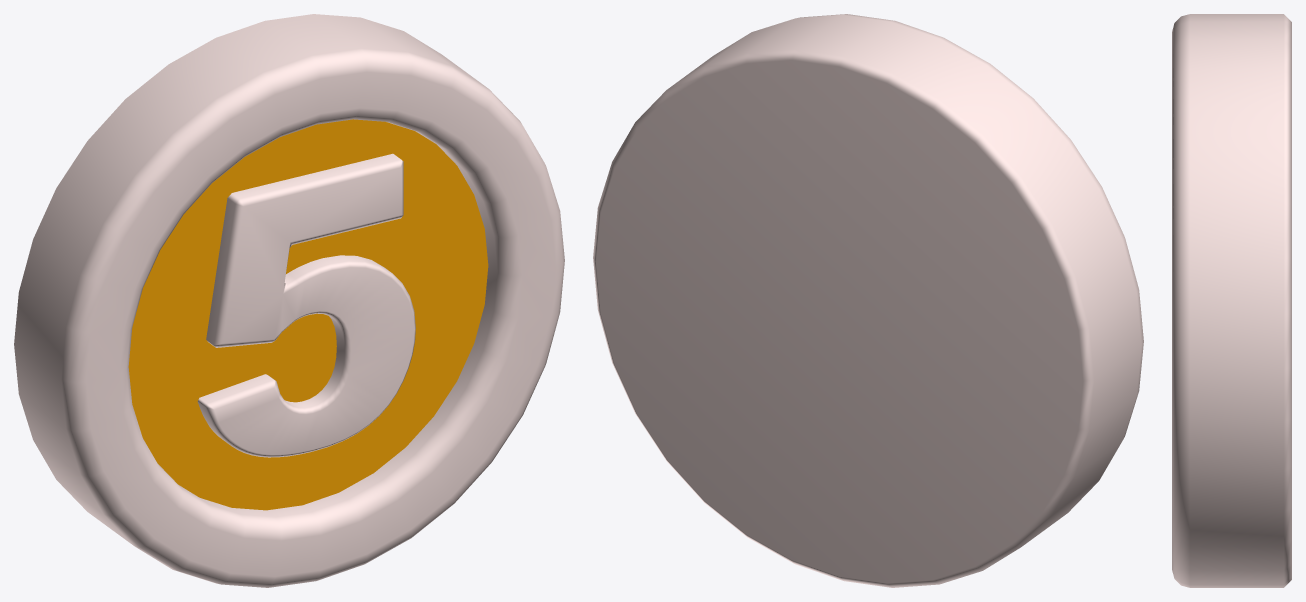
File: City_20_Number_House_5.glb
The picture shows the model from 3 angles, left to right: view 1: azimuth 30°, elevation 25°; view 2: azimuth 150°, elevation 25°; view 3: azimuth 270°, elevation 25°; orthographic projection.
Parts seen in each view (by area): view 1: City_20_Number_House_5; view 2: City_20_Number_House_5; view 3: City_20_Number_House_5.
Part boxes in pixels (box(x1,y1,x2,y2)): City_20_Number_House_5: box(14, 14, 564, 587); City_20_Number_House_5: box(593, 14, 1143, 587); City_20_Number_House_5: box(1172, 14, 1291, 587).
Size of the model in its own units: 0.5101 by 0.5101 by 0.1065.
1 material, 1 textured.
